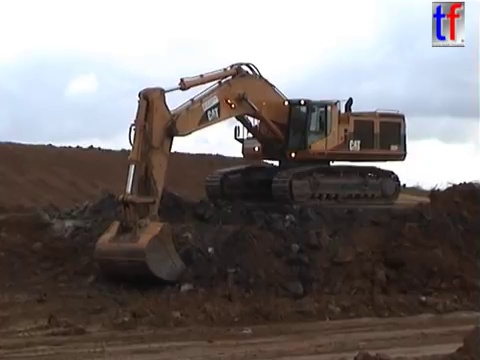excavator: (90, 60, 410, 286)
